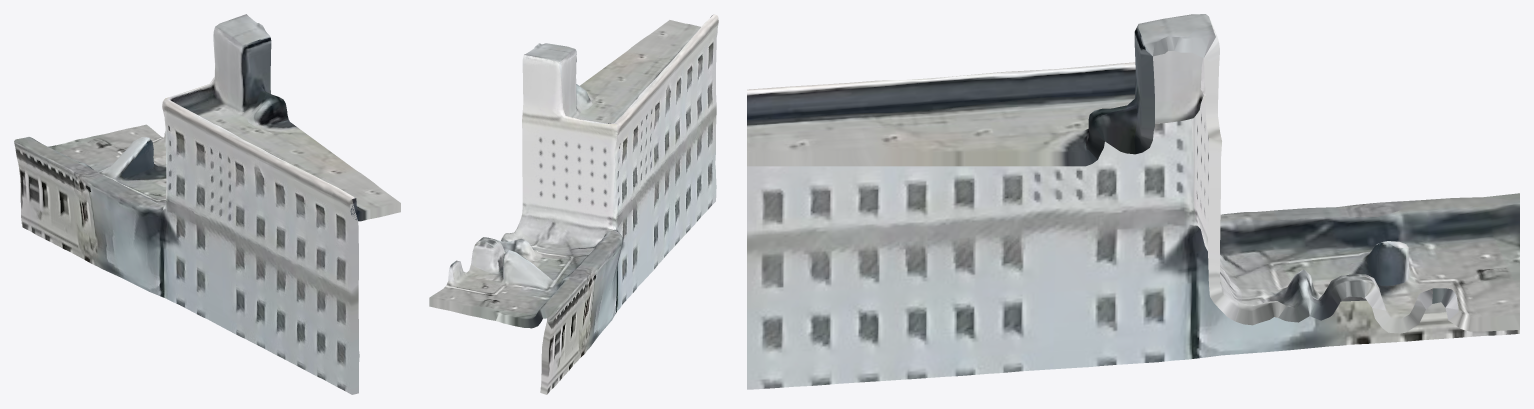
File: z20-167747-405241-h1-yup-uvflip-v3-world.glb
3 renders of one model, left to right at view 1: azimuth 30°, elevation 25°; view 2: azimuth 150°, elevation 25°; view 3: azimuth 270°, elevation 25°, orthographic. The views are drawn at different scales.
Bounding box in the file's own units: 9.12 × 16.88 × 30.32.
Materials: 1 (1 with a texture image).
